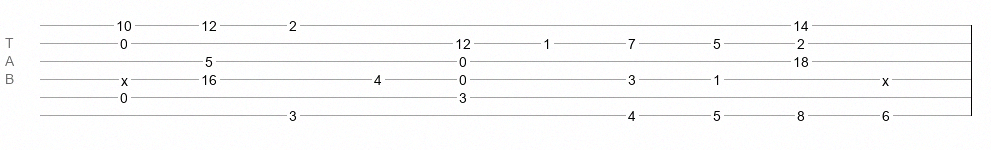0: (120, 36, 128, 46), (120, 90, 128, 100), (459, 72, 467, 82), (459, 54, 467, 64)
1: (543, 36, 551, 46), (713, 72, 721, 82)
10: (116, 18, 132, 28)
12: (201, 18, 217, 28), (455, 36, 471, 46)
14: (793, 18, 809, 28)
16: (201, 72, 217, 82)
18: (793, 54, 809, 64)
2: (289, 18, 297, 28), (797, 36, 805, 46)
3: (289, 108, 297, 118), (459, 90, 467, 100), (628, 72, 636, 82)
4: (374, 72, 382, 82), (628, 108, 636, 118)
5: (205, 54, 213, 64), (713, 108, 721, 118), (713, 36, 721, 46)
6: (882, 108, 890, 118)
7: (628, 36, 636, 46)
8: (797, 108, 805, 118)
x: (121, 73, 128, 81), (882, 73, 889, 81)
